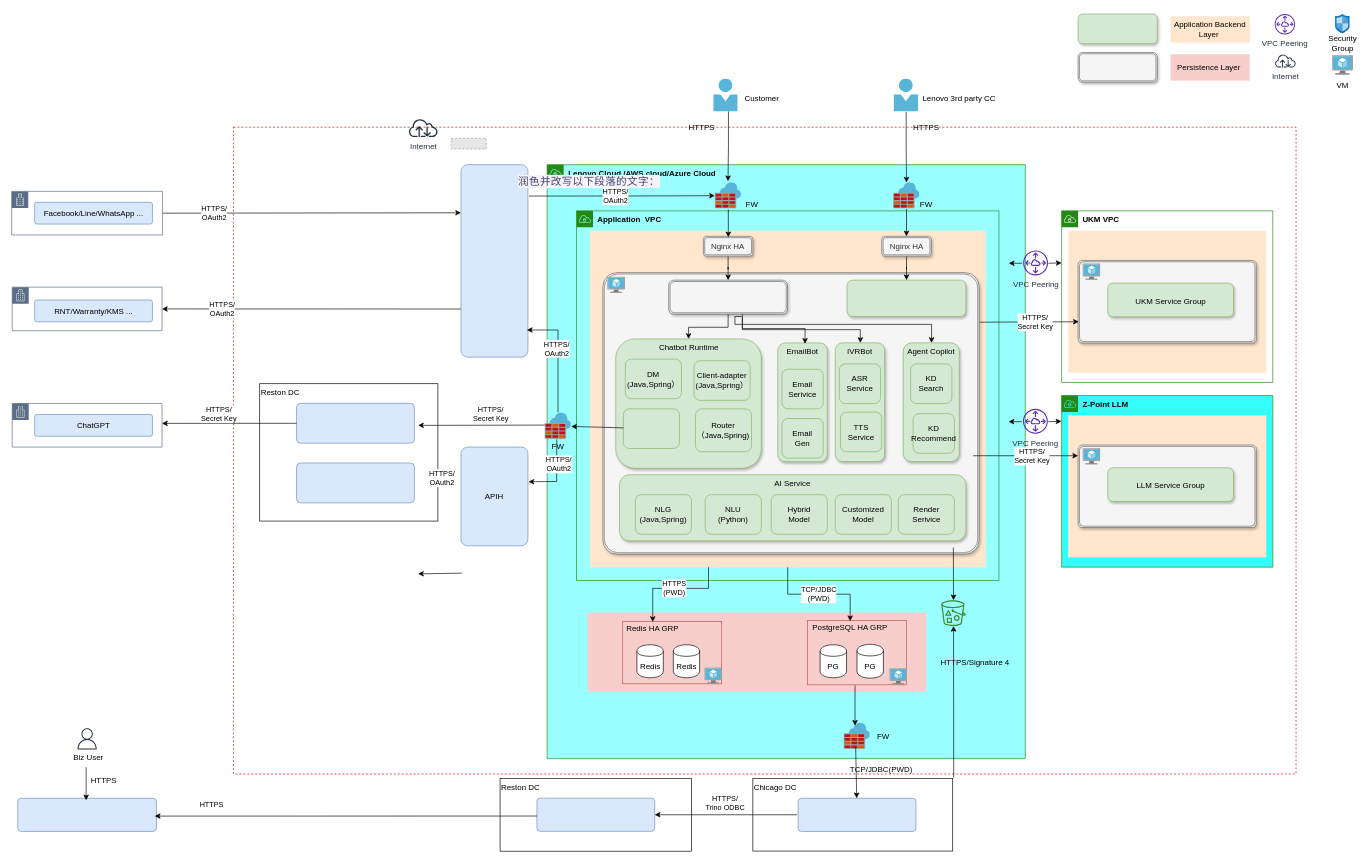
This 1368x863 diagram has some shape labels left out. Grey dashed boxes stand in for pictures. Each missing label, with the centre of its shape:
AI Verse（Guardrail）: [355,482]
AI Verse（MaaS）: [355,423]
bot Mgmt. (Java, Spring, H5): [907,299]
Business Application: [1118,29]
Data Verse (ROW LUDP): [856,814]
External WSO2 API Gateway: [494,260]
Global PowerBI: [86,814]
PowerBI Gateway: [595,814]
S3: [953,613]
Service Pool (Java,Spring): [651,428]
Spring Cloud Gateway: [728,298]
Technical Platform: [1118,68]
